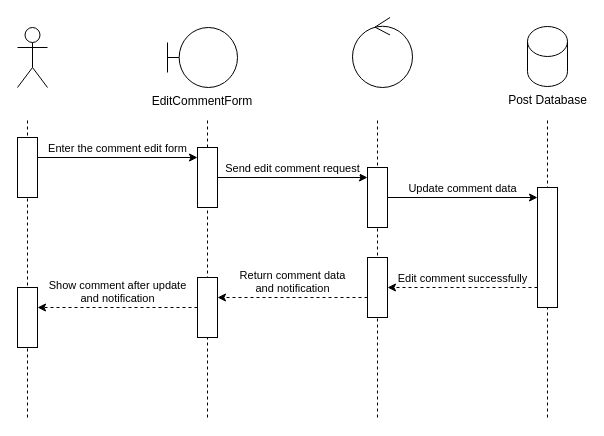
Some shapes in this 604 by 436 pixel diagram are drawn without their labels. The shapes that lost their labels are listed below. From the top down, each one's centre as x and y in pixels, then its label:
At (32,57): "User".
At (382,52): "CommentController".
